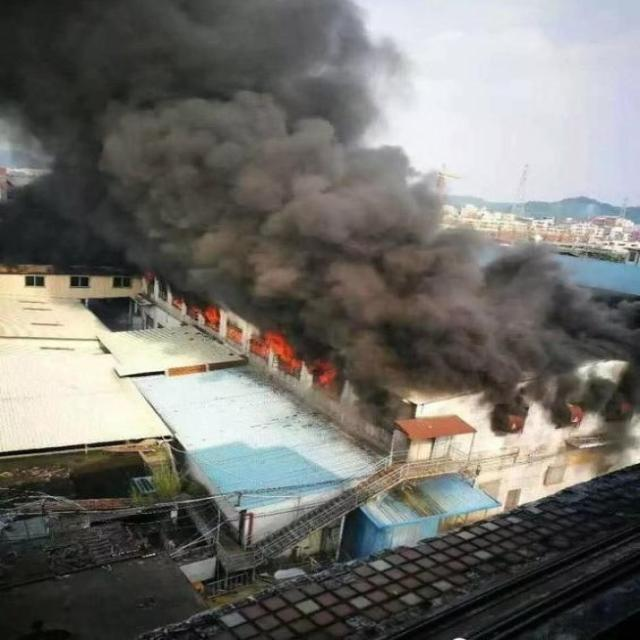Smoke: (1, 1, 639, 433)
